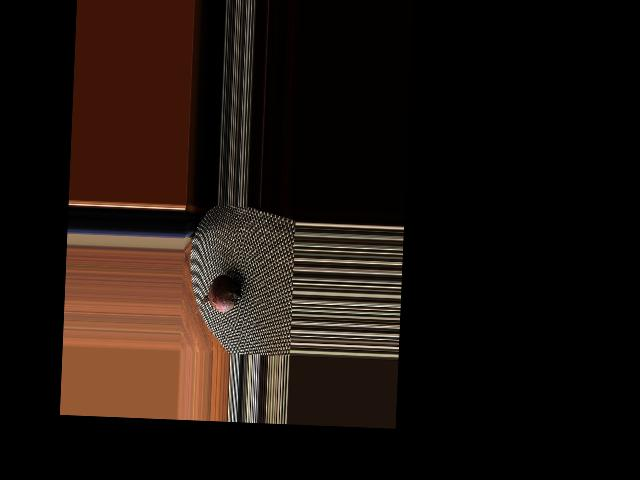beet: (196, 268, 244, 319)
